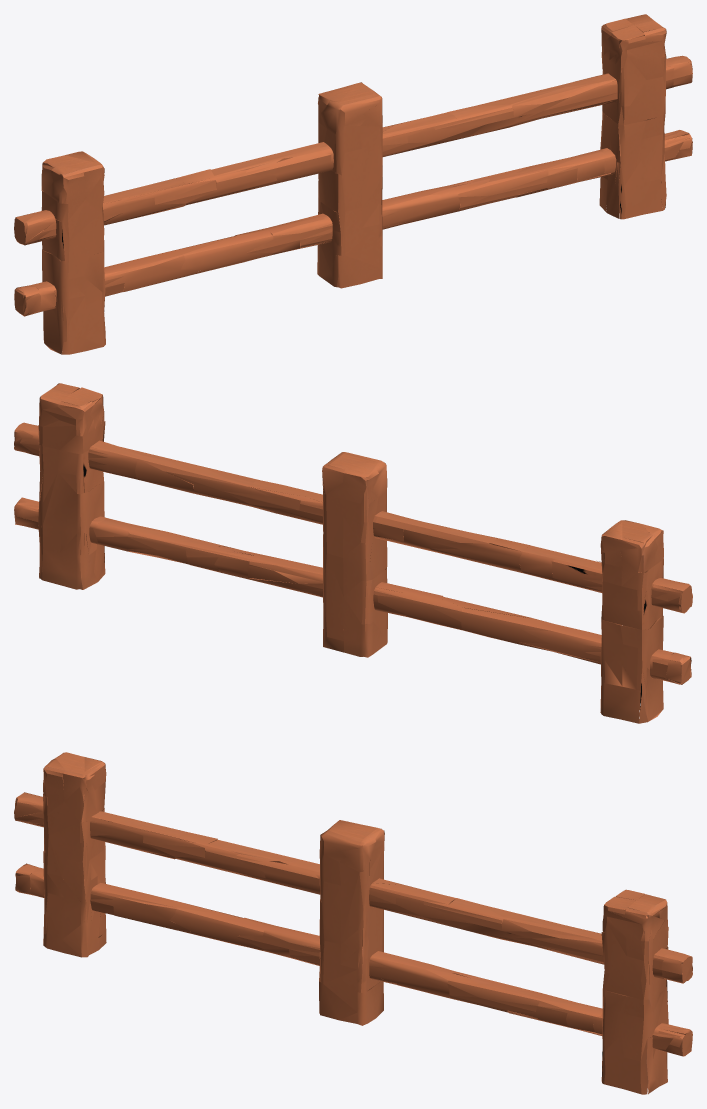
Rendered from fence_rail_2.glb.
3 views of the same model, one above another, from view 1: azimuth 30°, elevation 25°; view 2: azimuth 150°, elevation 25°; view 3: azimuth 330°, elevation 25° (orthographic).
Parts seen in each view (by area): view 1: output_unwrapped; view 2: output_unwrapped; view 3: output_unwrapped.
Part boxes in pixels (x1,y1,x2,y2): output_unwrapped: (14, 14, 692, 354); output_unwrapped: (14, 383, 692, 723); output_unwrapped: (14, 752, 692, 1094).
Size of the model in its own units: 1 by 0.2618 by 0.0636.
Materials: 1 (1 with a texture image).
